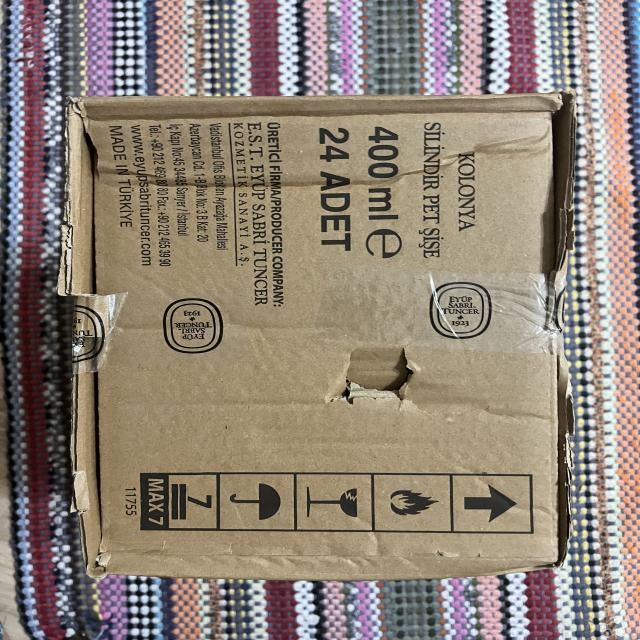damaged: (59, 95, 578, 581), (330, 340, 452, 423)
